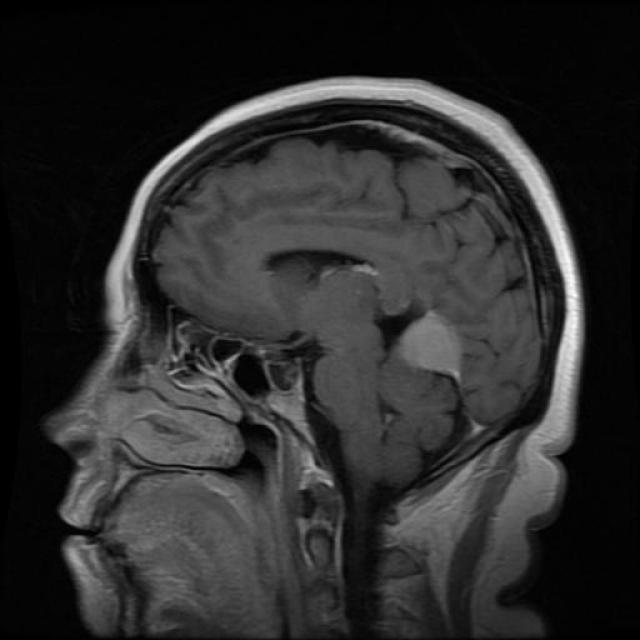Brain-Tumor: (385, 300, 480, 390)
